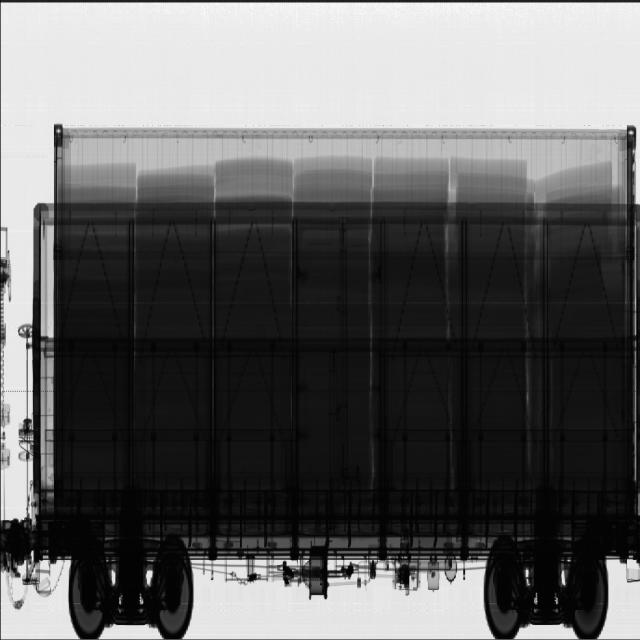fabrics: (60, 162, 629, 491)
